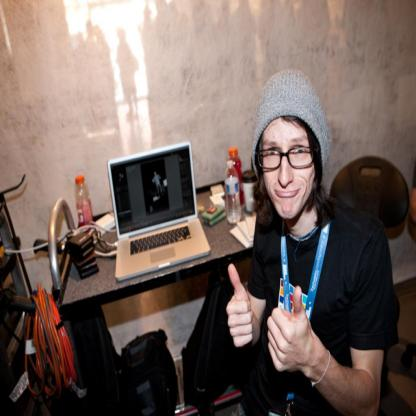board: (107, 143, 212, 282), (227, 143, 245, 213), (74, 172, 93, 229), (226, 159, 241, 223)
